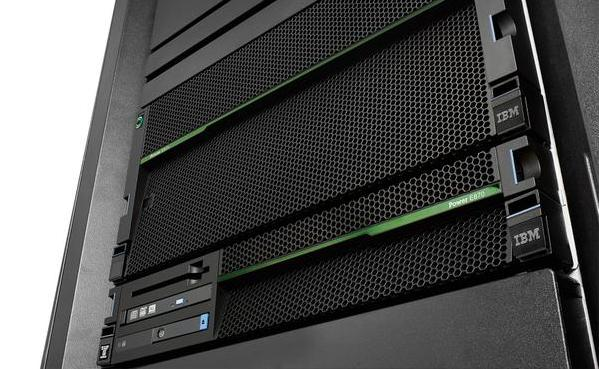ibm-server: (92, 96, 580, 330)
